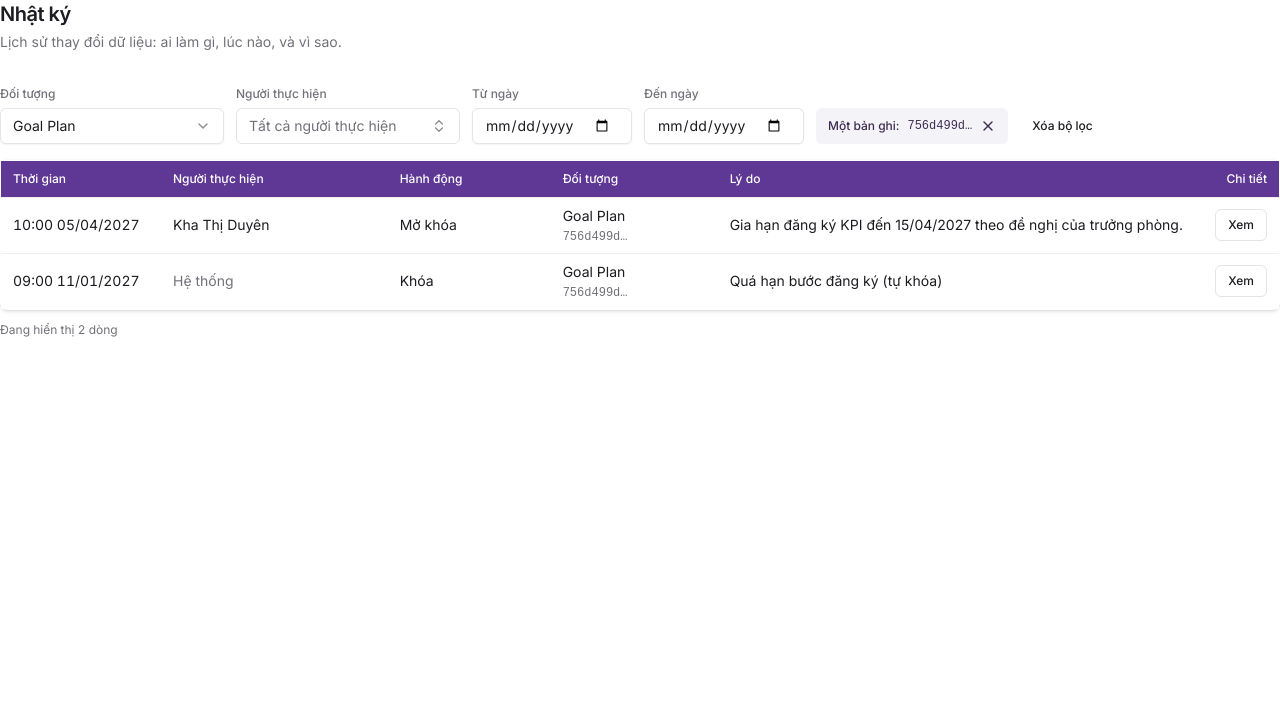
Scenario: AuditLogPage › the detail shows the changed fields in words
The image size is (1280, 720).
What coordinates should you click on to do the following:
click the button with aria-label "Xem chi tiết, Mở khóa Goal Plan"
I would click on:
 (1241, 225)
Its box is [1215,209,1267,241].
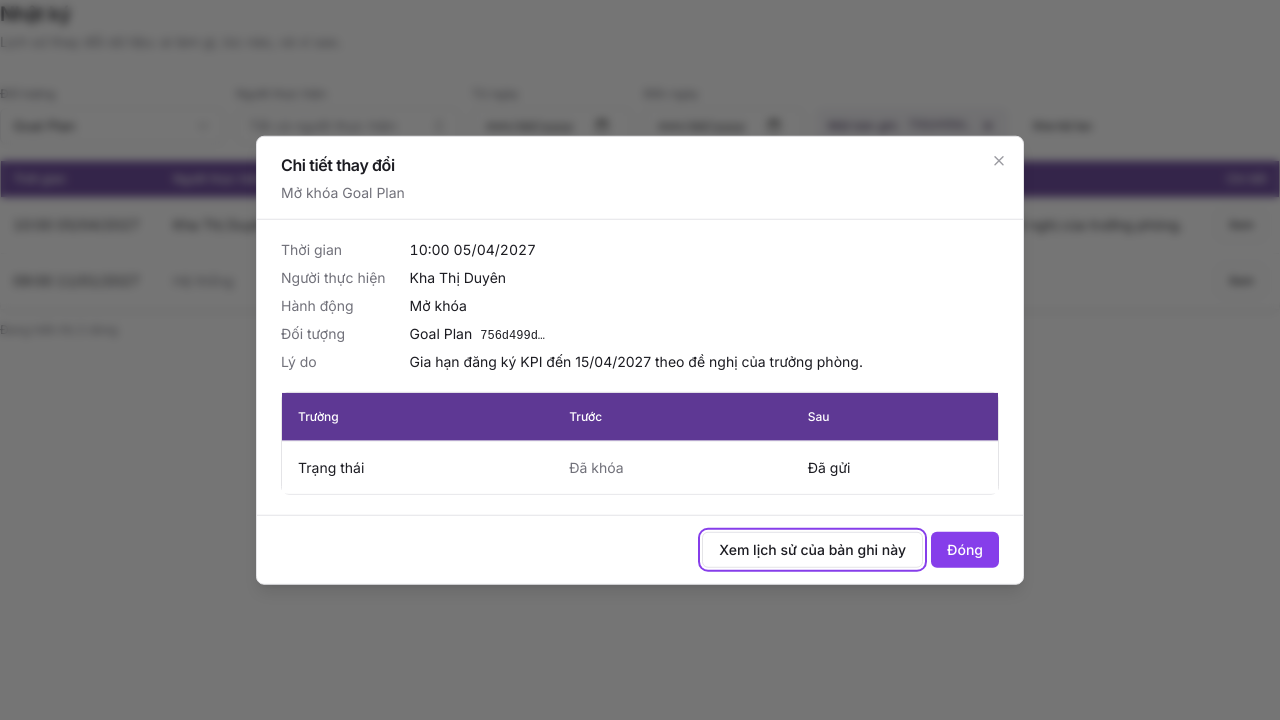
Expected: the text "Trạng thái" is shown, [282,441,553,493]
Expected: the text "Đã khóa" is shown, [553,441,792,493]
Expected: the text "Đã gửi" is shown, [792,441,998,493]
